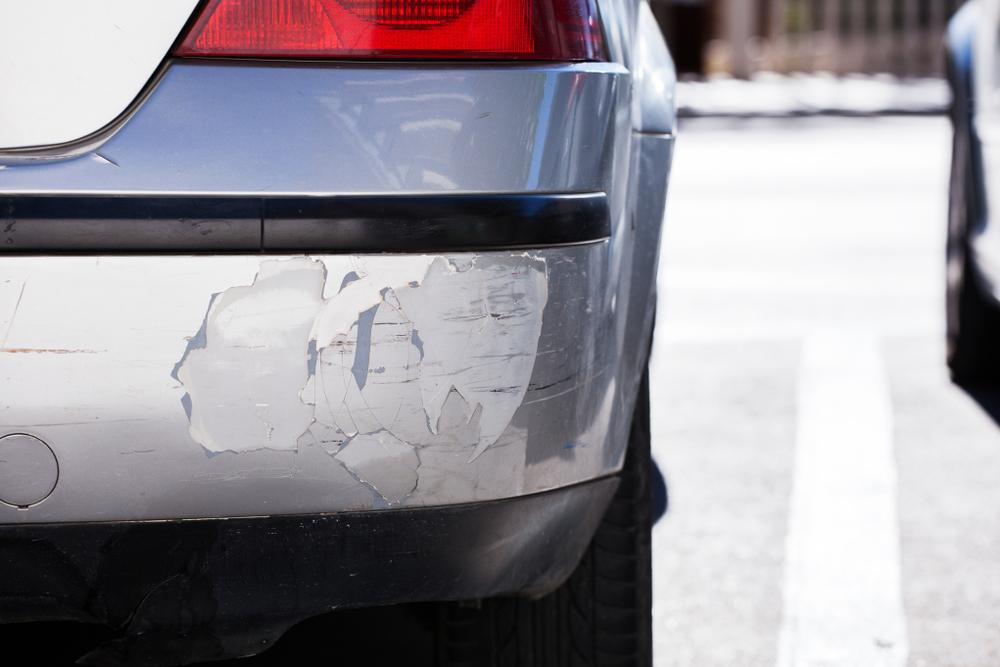scratch: (149, 252, 583, 509)
